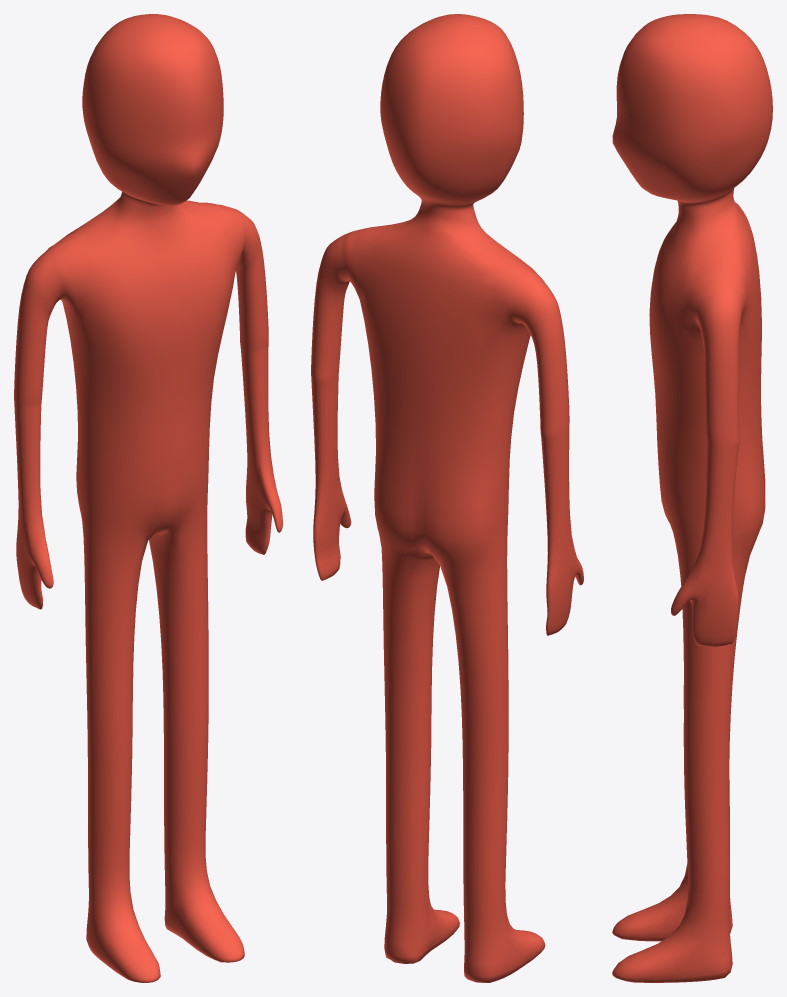
The model's file is Character.fbx.
3 renders of one model, left to right at view 1: azimuth 30°, elevation 25°; view 2: azimuth 150°, elevation 25°; view 3: azimuth 270°, elevation 25°, orthographic.
Parts seen in each view (by area): view 1: Cylinder003; view 2: Cylinder003; view 3: Cylinder003.
Boxes of the visible parts, bbox=[...] form: Cylinder003: bbox=[14, 14, 282, 982]; Cylinder003: bbox=[311, 14, 583, 982]; Cylinder003: bbox=[612, 14, 772, 982].
Size of the model in its own units: 49.17 by 174 by 27.11.
